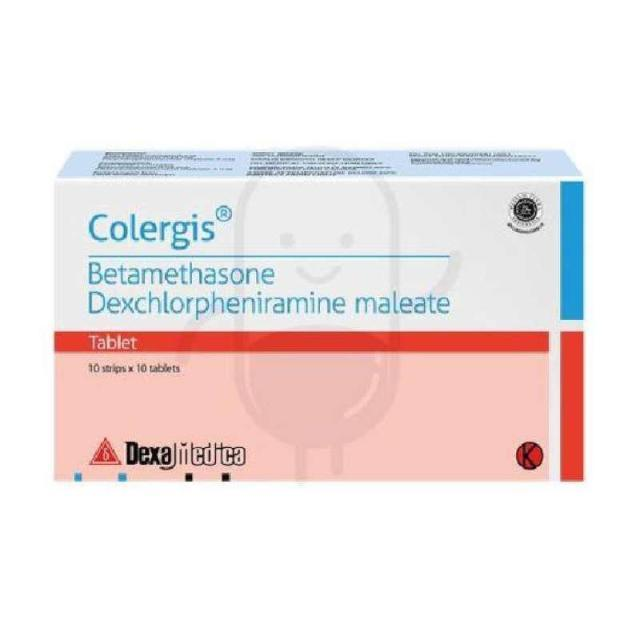drug-name: (88, 210, 230, 252)
